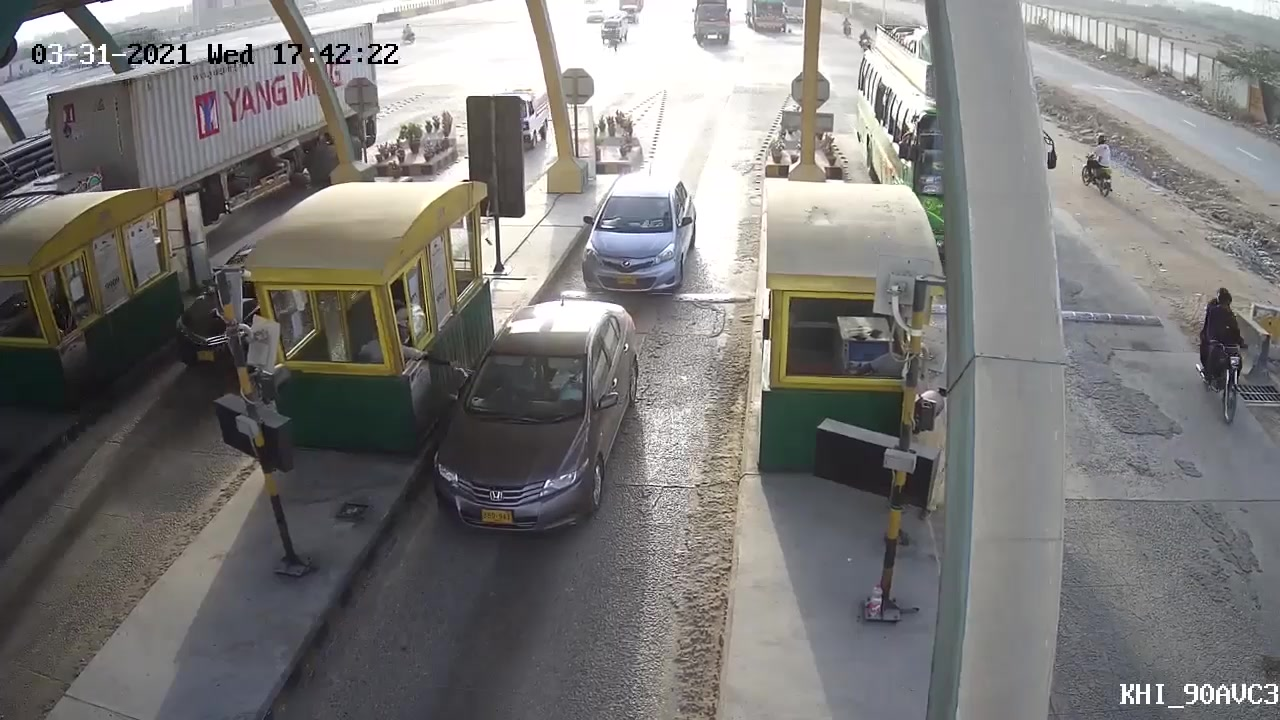F1: (425, 298, 642, 546), (575, 168, 699, 301)
